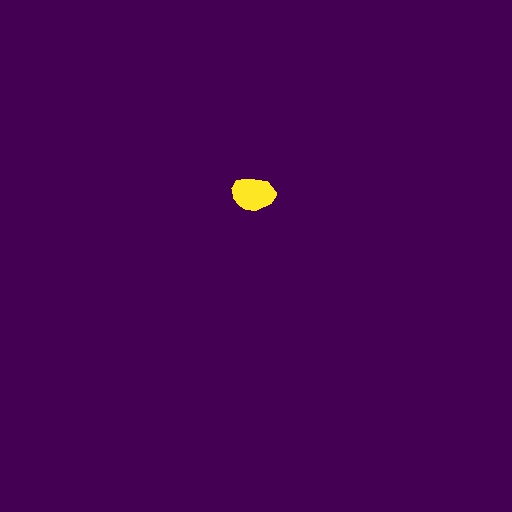Pituirity_tumour: (231, 179, 277, 211)
